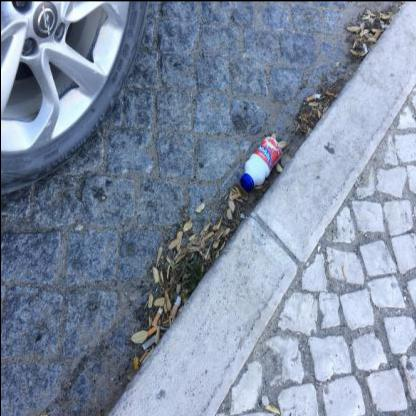Bottle: (239, 173, 251, 190)
Bottle cap: (239, 136, 281, 192)
Cigarette: (169, 294, 180, 318), (150, 305, 162, 325), (142, 333, 155, 349), (146, 324, 156, 336), (306, 92, 320, 100), (228, 192, 240, 200), (362, 42, 368, 52), (323, 91, 333, 96)
